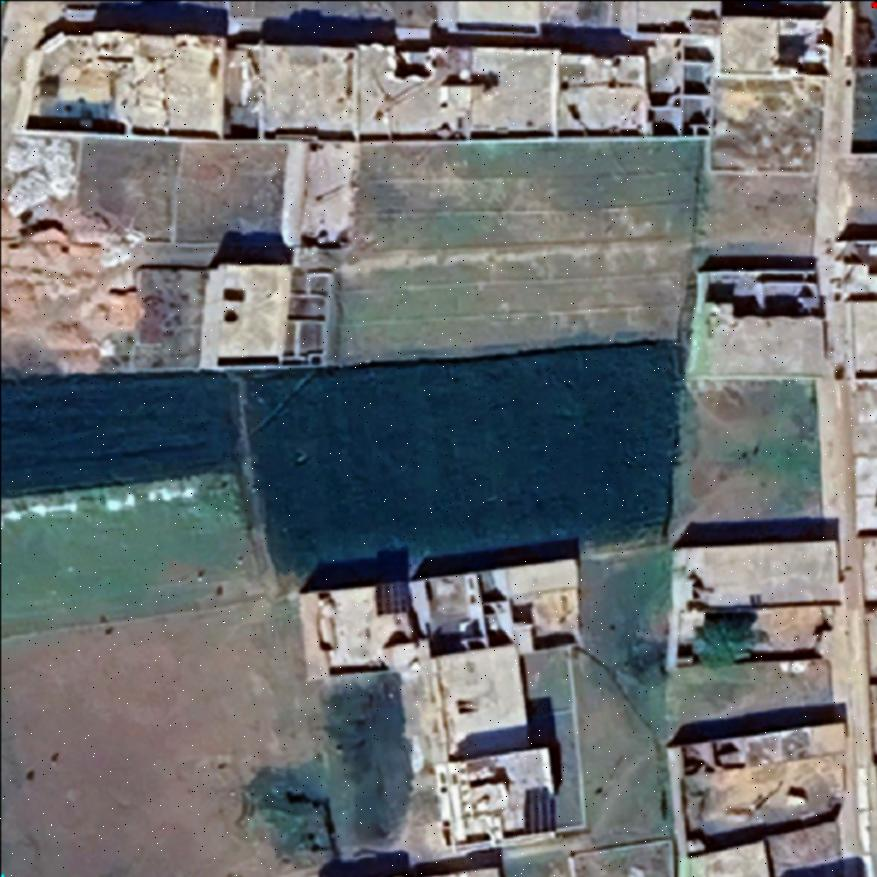Solarpanel: (521, 782, 558, 836), (371, 575, 415, 617)
